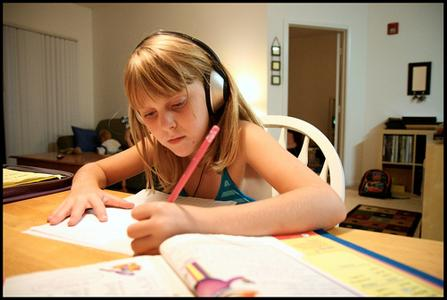person: (47, 31, 347, 257)
